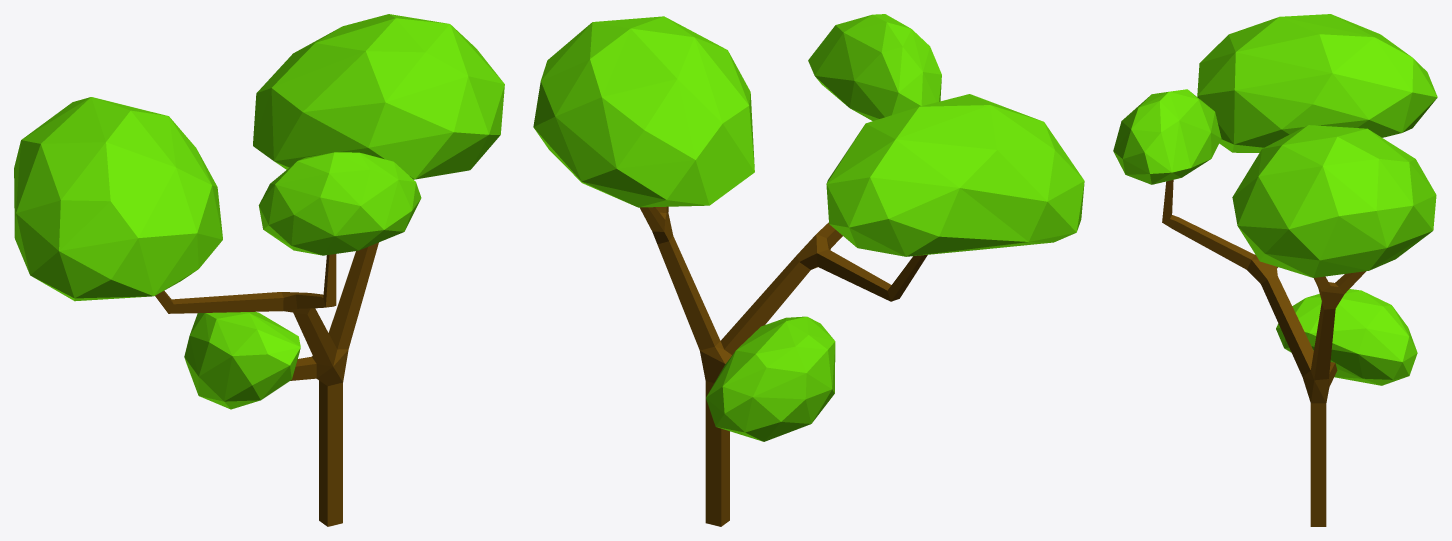
File: Leafy_Tree_2.fbx
3 views of the same model, side by side, from view 1: azimuth 30°, elevation 25°; view 2: azimuth 150°, elevation 25°; view 3: azimuth 270°, elevation 25° (orthographic). The views are drawn at different scales.
Parts seen in each view (by area): view 1: Leafy Tree 2; view 2: Leafy Tree 2; view 3: Leafy Tree 2.
Boxes of the visible parts, bbox=[...] form: Leafy Tree 2: bbox=[14, 14, 504, 526]; Leafy Tree 2: bbox=[533, 14, 1084, 526]; Leafy Tree 2: bbox=[1113, 14, 1437, 526].
Size of the model in its own units: 427 by 397 by 279.
